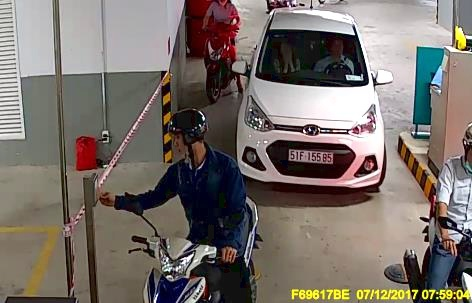plate: (284, 144, 336, 165)
